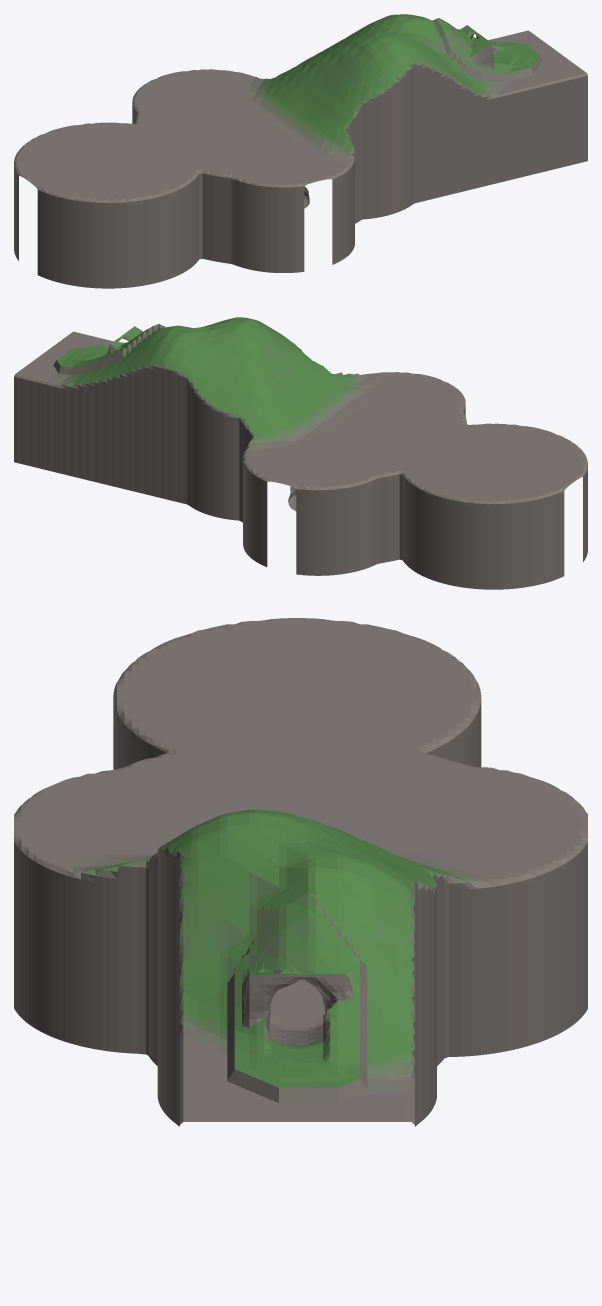
Rendered from cave_warren.glb.
3 views of the same model, one above another, from view 1: azimuth 30°, elevation 25°; view 2: azimuth 150°, elevation 25°; view 3: azimuth 270°, elevation 25° (orthographic). The views are drawn at different scales.
Visible parts, largest first — view 1: cave; view 2: cave; view 3: cave.
Boxes of the visible parts, x1=… form: cave: x1=14, y1=14, x2=587, y2=288; cave: x1=14, y1=317, x2=587, y2=589; cave: x1=14, y1=618, x2=587, y2=1126.
Size of what is drawn, in the model's own units: 81 by 22.57 by 39.
